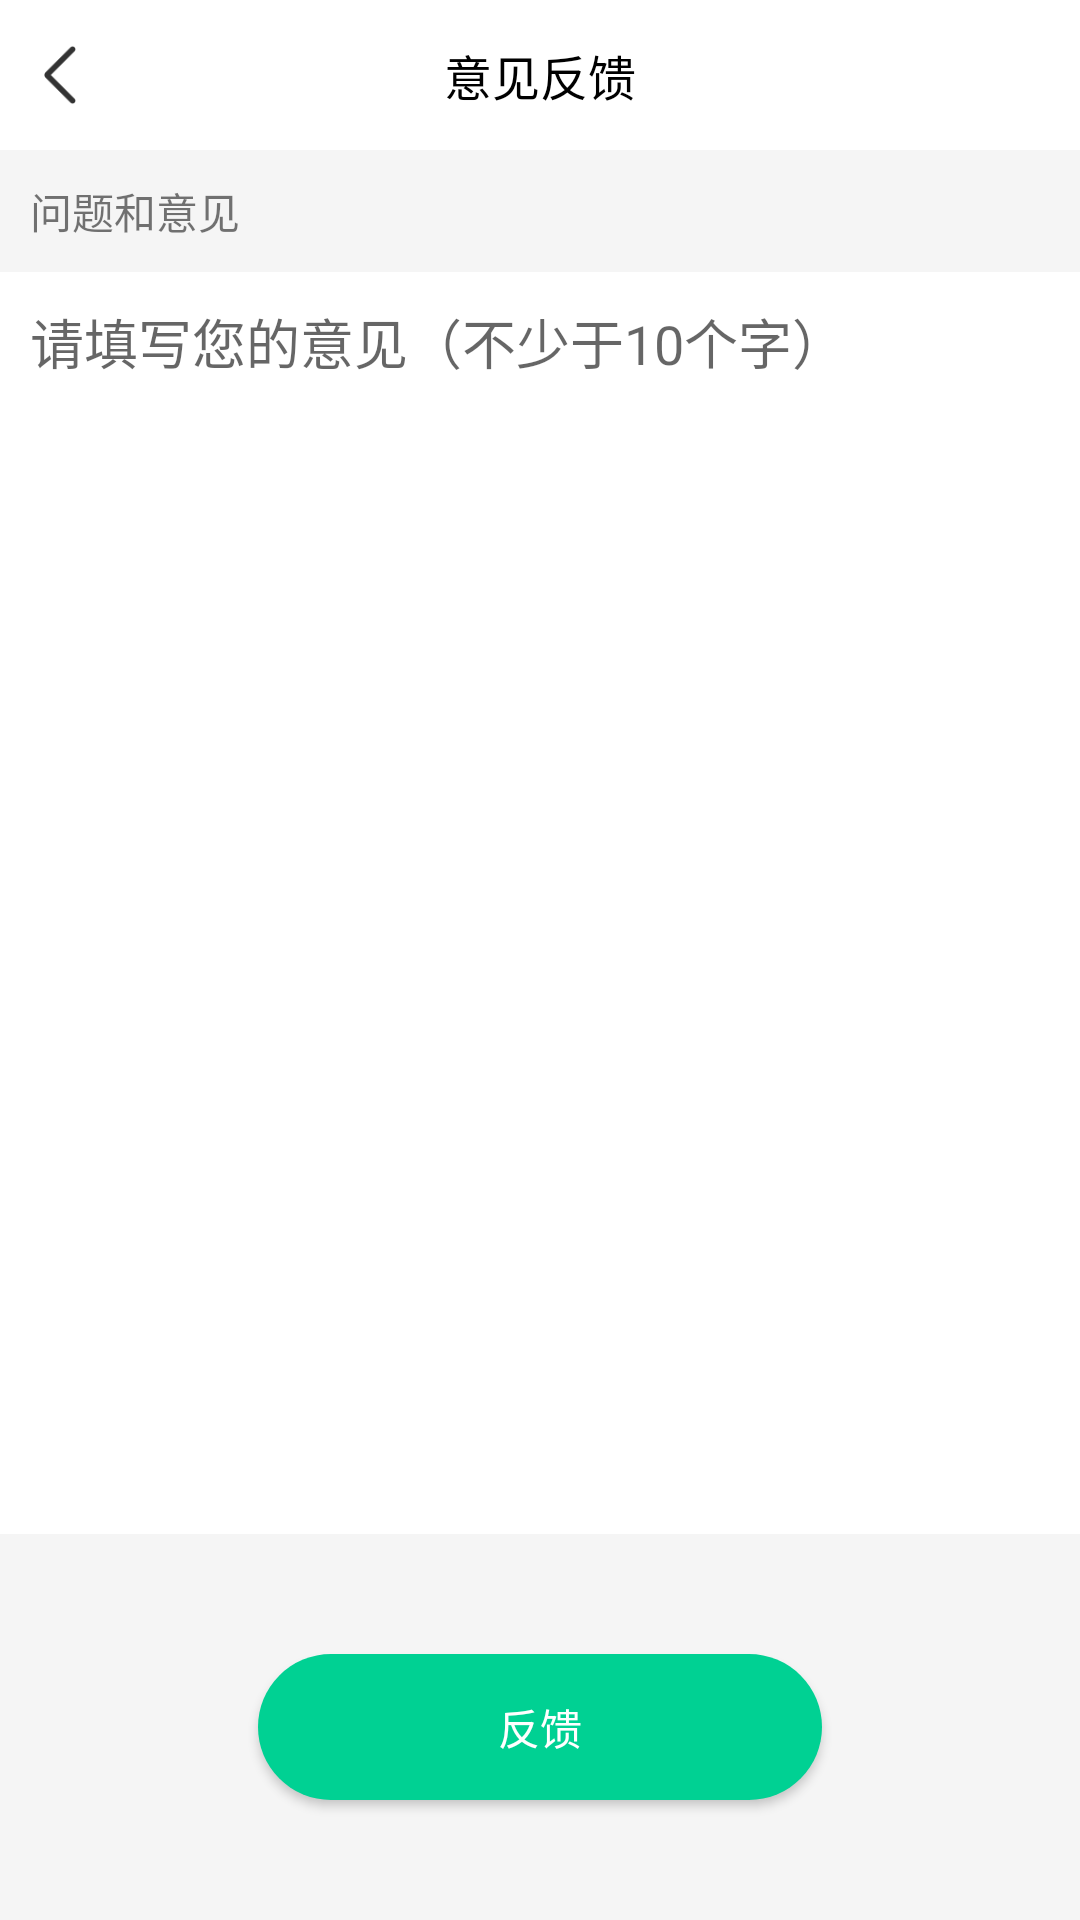

Where to tap for icons on this 1080px x 1920px app screen, as (x=x, y=y):
返回上一界面: (x=60, y=75)
